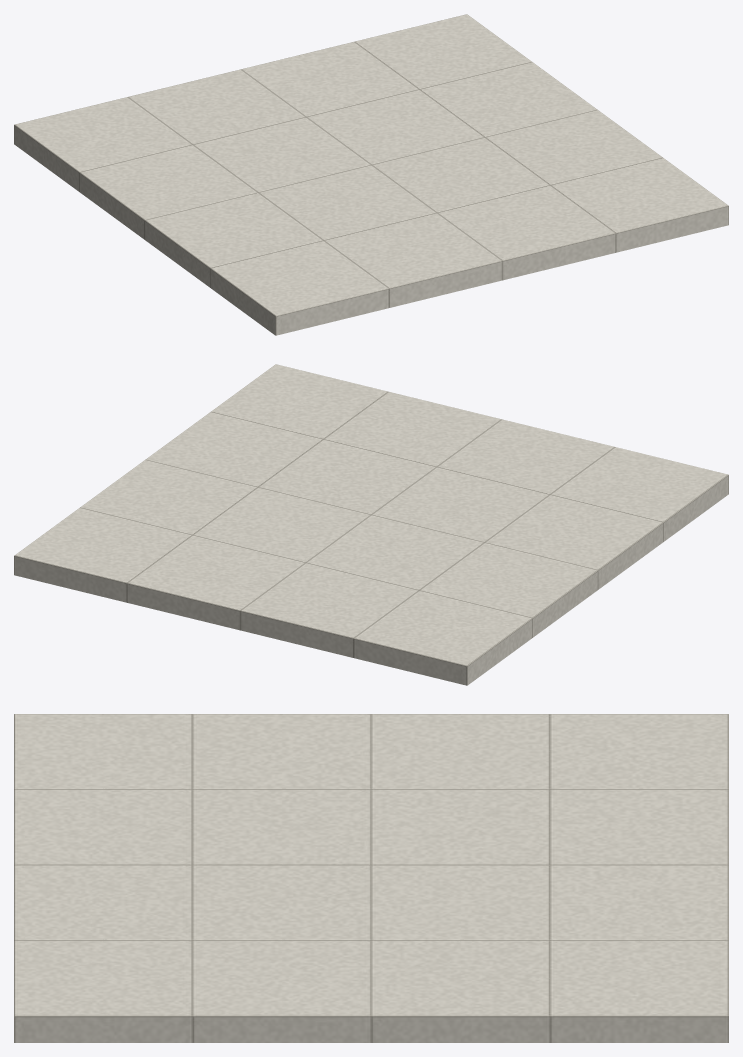
Rendered from floor_store_120.glb.
3 renders of one model, top to bottom at view 1: azimuth 30°, elevation 25°; view 2: azimuth 150°, elevation 25°; view 3: azimuth 270°, elevation 25°, orthographic. The views are drawn at different scales.
Visible parts, largest first — view 1: floor_store_120-col; view 2: floor_store_120-col; view 3: floor_store_120-col.
Boxes of the visible parts, x1,y1,x2,y2 form: floor_store_120-col: [14, 14, 728, 335]; floor_store_120-col: [14, 364, 728, 685]; floor_store_120-col: [14, 714, 728, 1042].
Size of the model in its own units: 1.2 by 0.05 by 1.2.
1 material, 1 textured.
